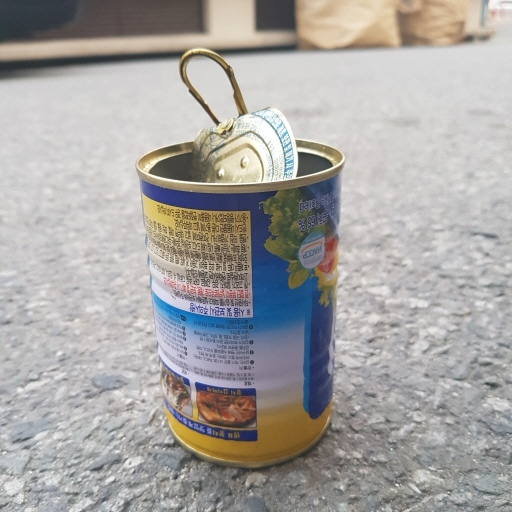Metal_1: (139, 48, 345, 472)
